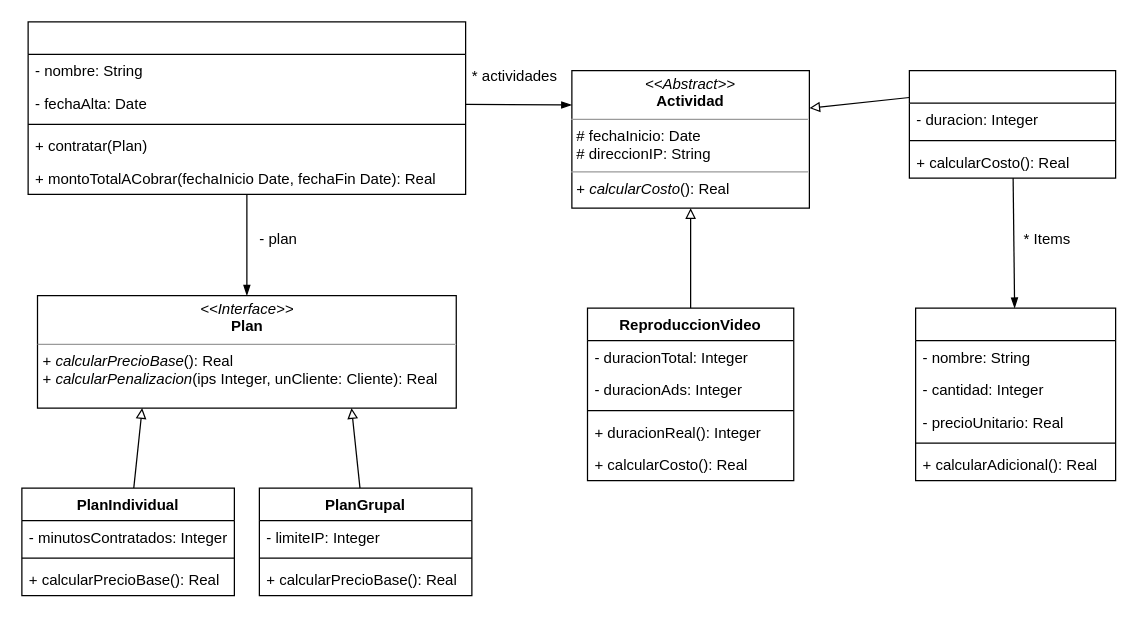
Image size: 1138x621. Some labels were removed from this diagram. Each missing label, with the box of its shape:
Cliente: (27, 21, 466, 194)
Item: (914, 307, 1116, 481)
SesionJuegos: (908, 69, 1116, 178)
